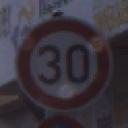speed_limit_30: (12, 14, 115, 112)
